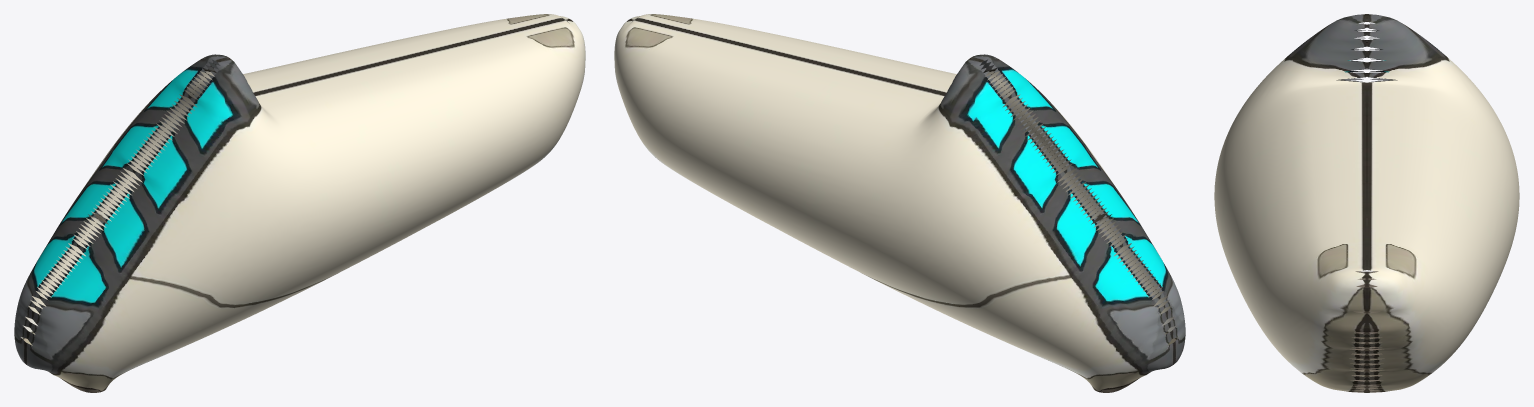
The model's file is cantilever_ledge.glb.
3 views of the same model, side by side, from view 1: azimuth 30°, elevation 25°; view 2: azimuth 150°, elevation 25°; view 3: azimuth 270°, elevation 25° (orthographic). The views are drawn at different scales.
Parts seen in each view (by area): view 1: cantilever_ledge; view 2: cantilever_ledge; view 3: cantilever_ledge.
Part boxes in pixels (bbox=[...]): cantilever_ledge: bbox=[14, 14, 585, 392]; cantilever_ledge: bbox=[614, 14, 1185, 392]; cantilever_ledge: bbox=[1214, 14, 1519, 392].
Size of the model in its own units: 0.989 by 0.4762 by 0.3928.
1 material, 1 textured.
